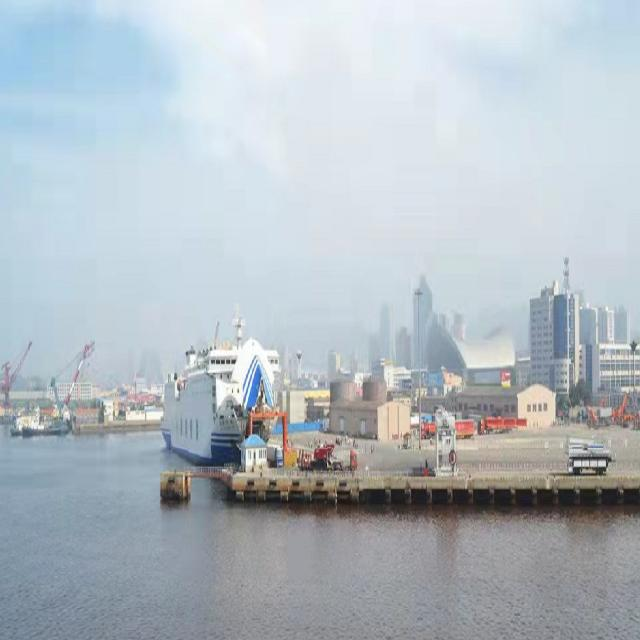passenger ship: (137, 313, 261, 456)
